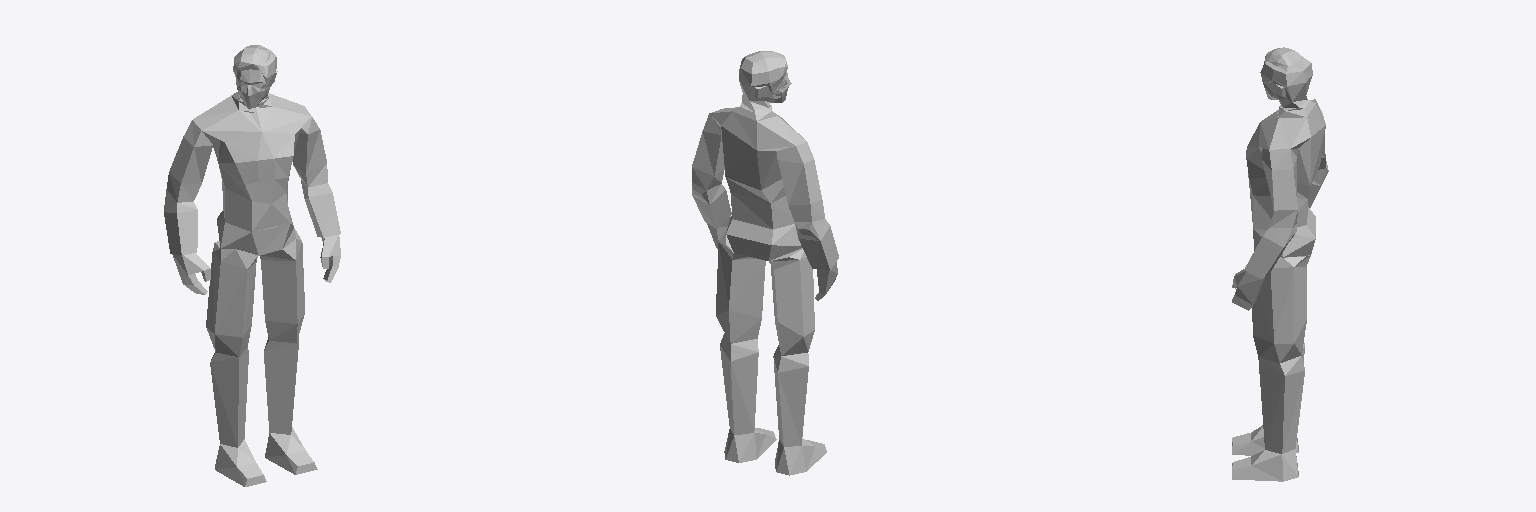
The model's file is Manuel98.obj.
3 renders of one model, left to right at view 1: azimuth 30°, elevation 25°; view 2: azimuth 150°, elevation 25°; view 3: azimuth 270°, elevation 25°, orthographic.
Visible parts, largest first — view 1: leon; view 2: leon; view 3: leon.
Boxes of the visible parts, x1=… form: leon: x1=164, y1=45, x2=340, y2=486; leon: x1=692, y1=51, x2=838, y2=475; leon: x1=1232, y1=47, x2=1328, y2=481.
Size of the model in its own units: 4.6 by 12.19 by 2.62.